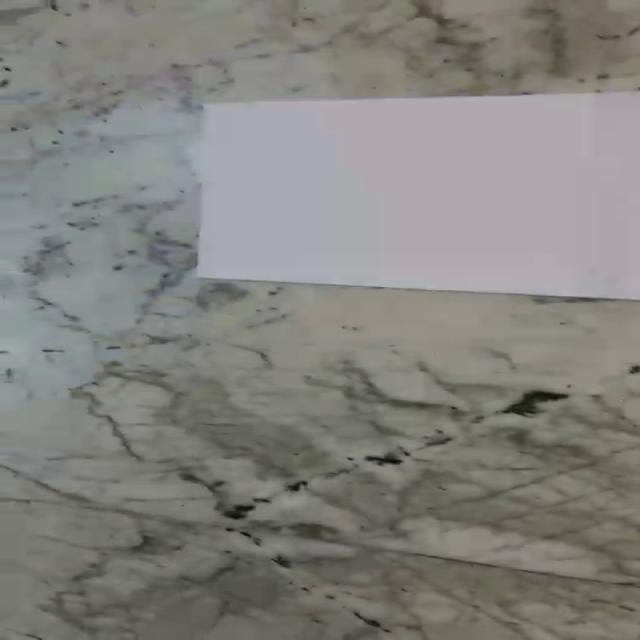road: (193, 91, 640, 302)
